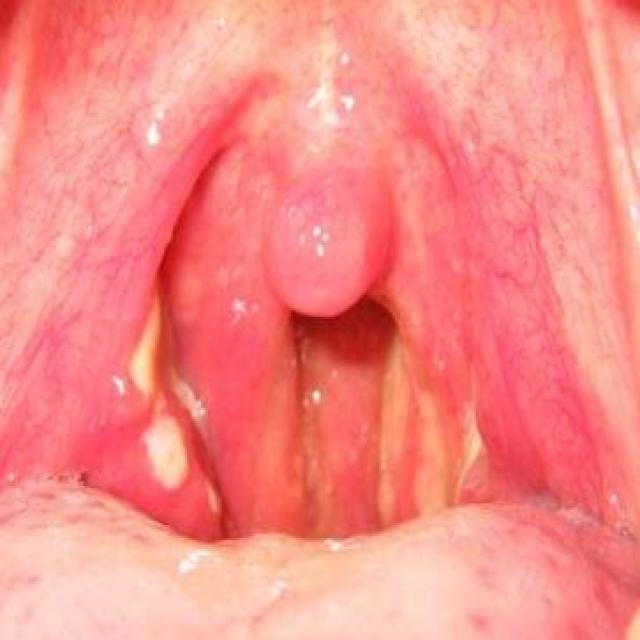pharyngitis: (360, 353, 482, 529), (125, 301, 221, 493)
